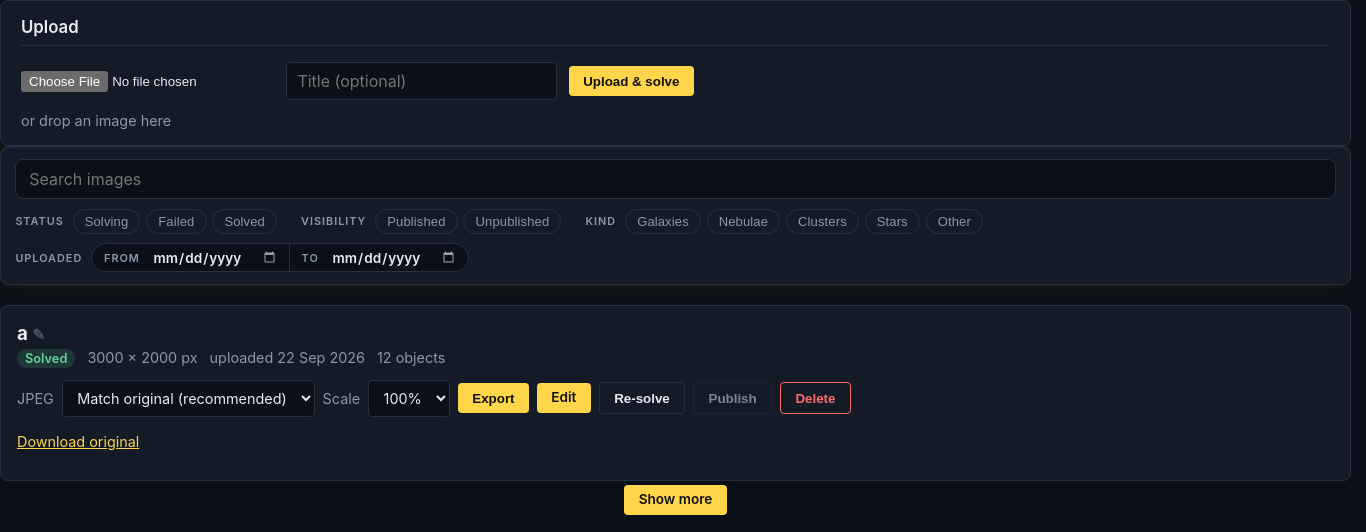
Scenario: ImagesPage followed Show more page (#227) › a Show more failure other than a gone cursor is shown as it is, with no restart
Click the link "Show more" at (675, 500), box top-left (624, 485), bottom-right (727, 515)
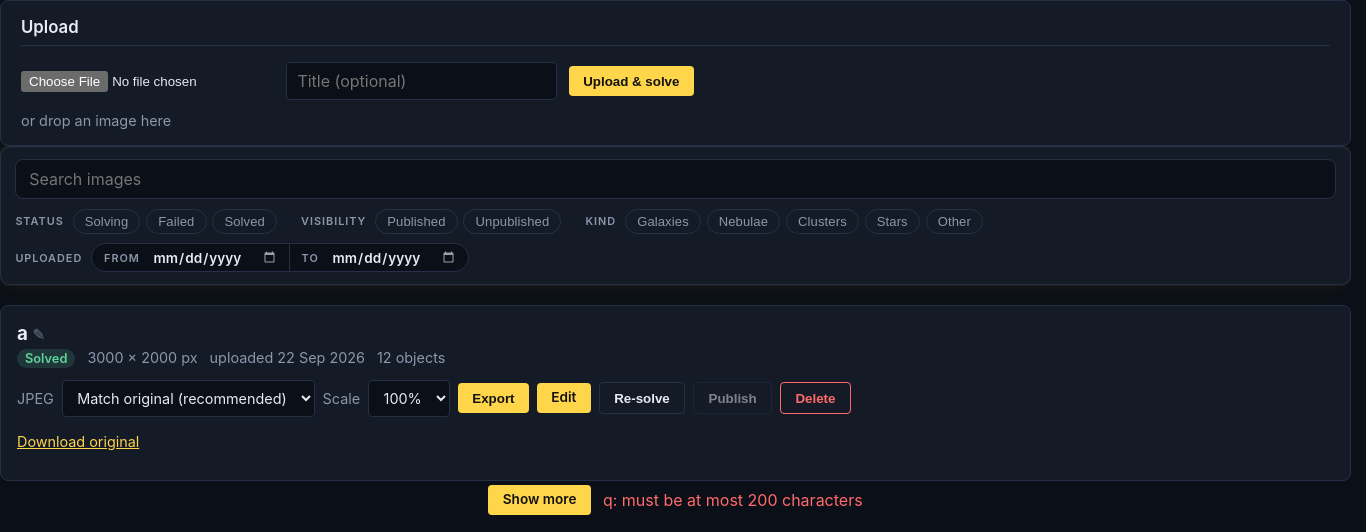
Now the text "q: must be at most 200 characters" is shown, box top-left (603, 490), bottom-right (863, 510)
